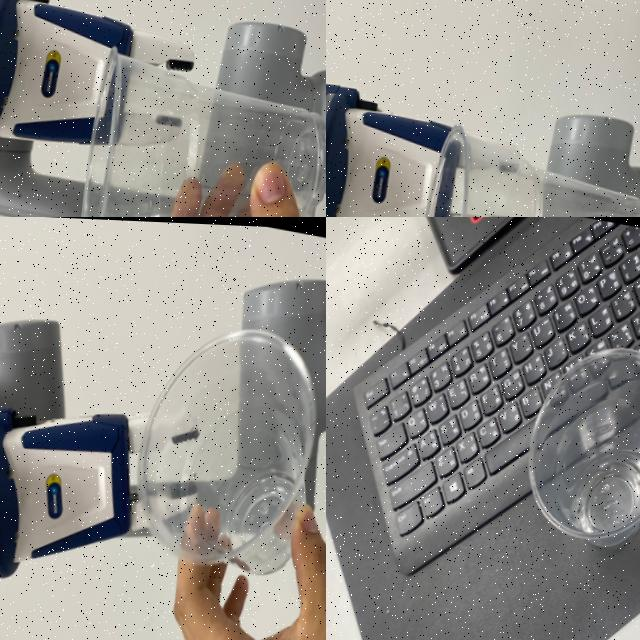glass: (108, 282, 326, 597), (55, 28, 326, 217), (504, 323, 640, 563), (394, 110, 640, 217)
